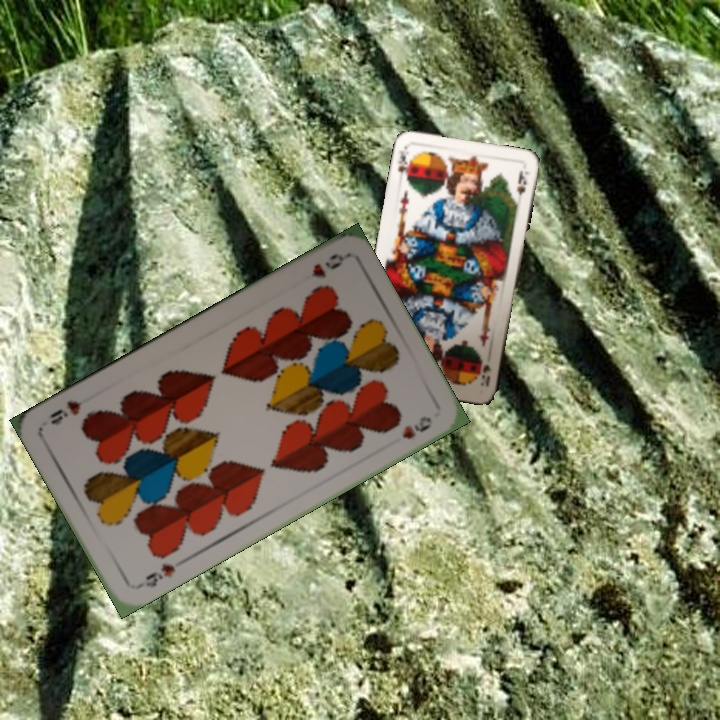H9: (307, 249, 348, 281), (141, 559, 178, 591)
SK: (393, 150, 414, 183), (477, 361, 494, 390)
